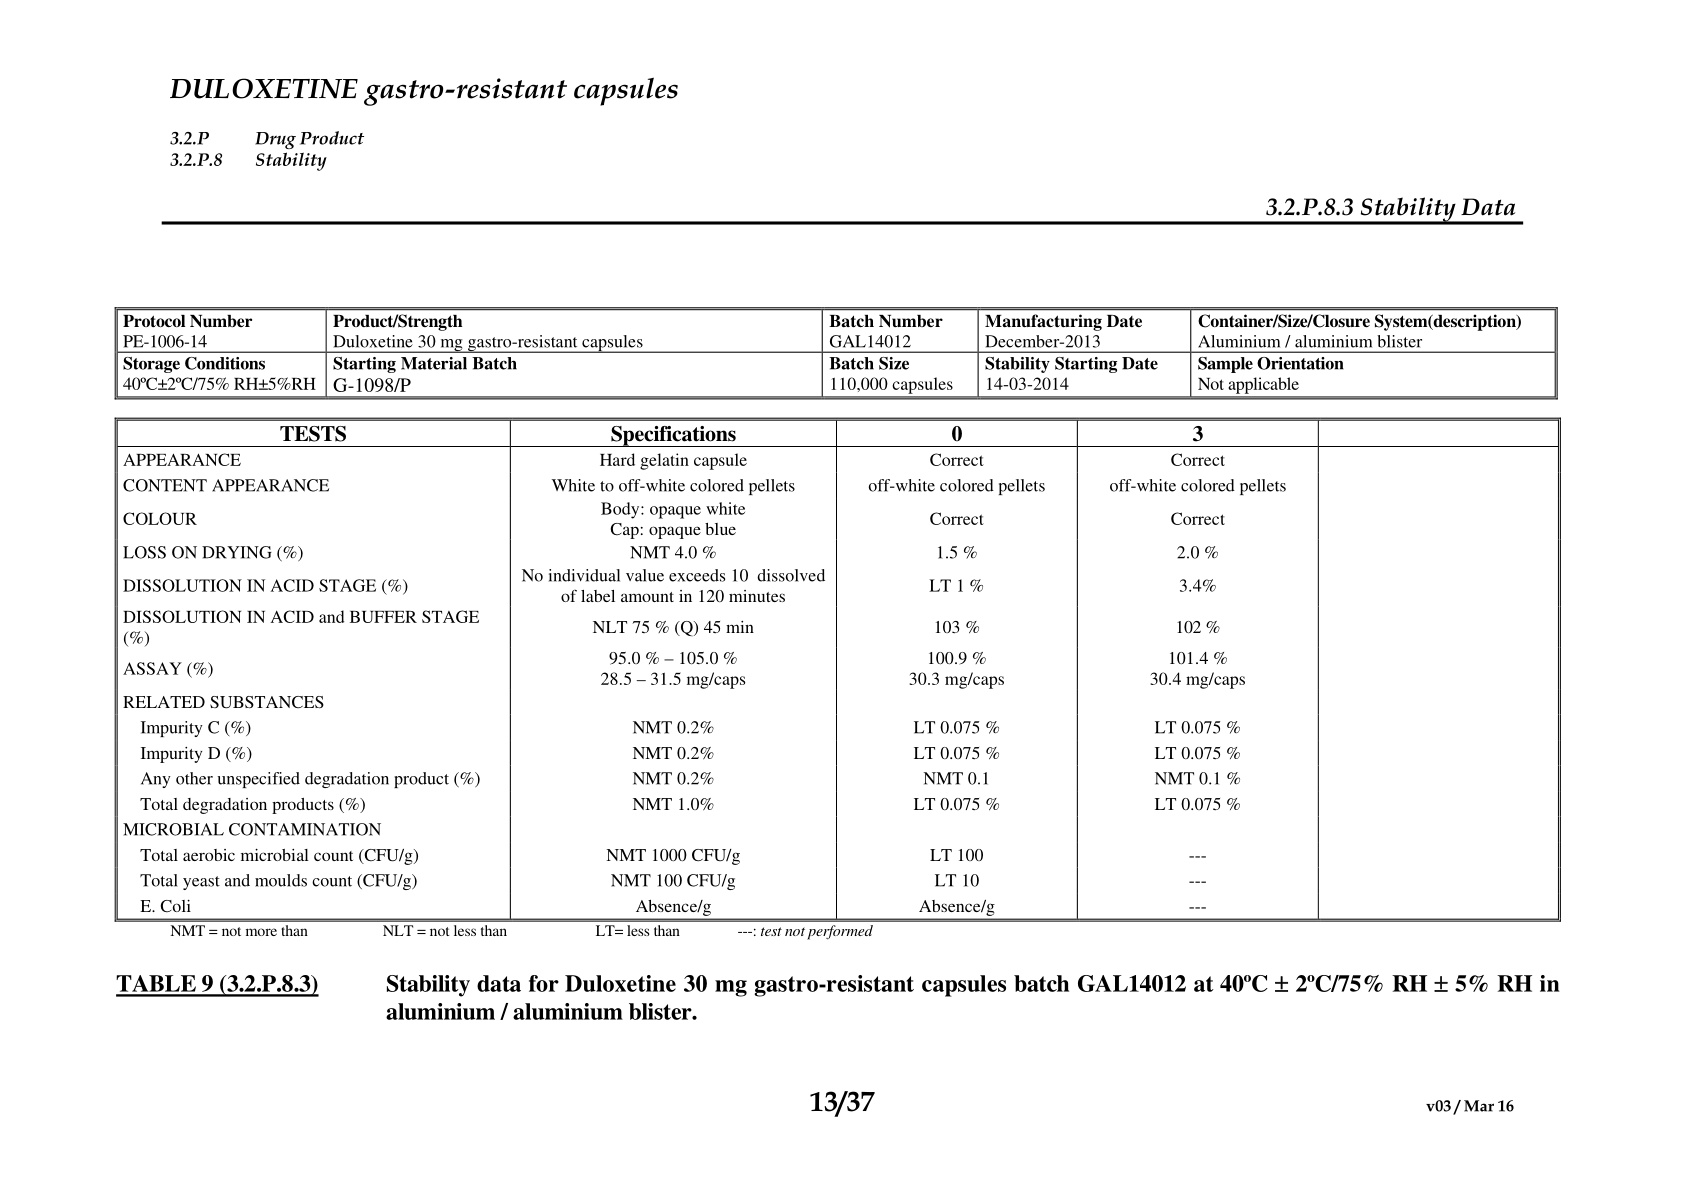full_lined: (113, 305, 1558, 401)
partial_lined: (113, 416, 1562, 923)
